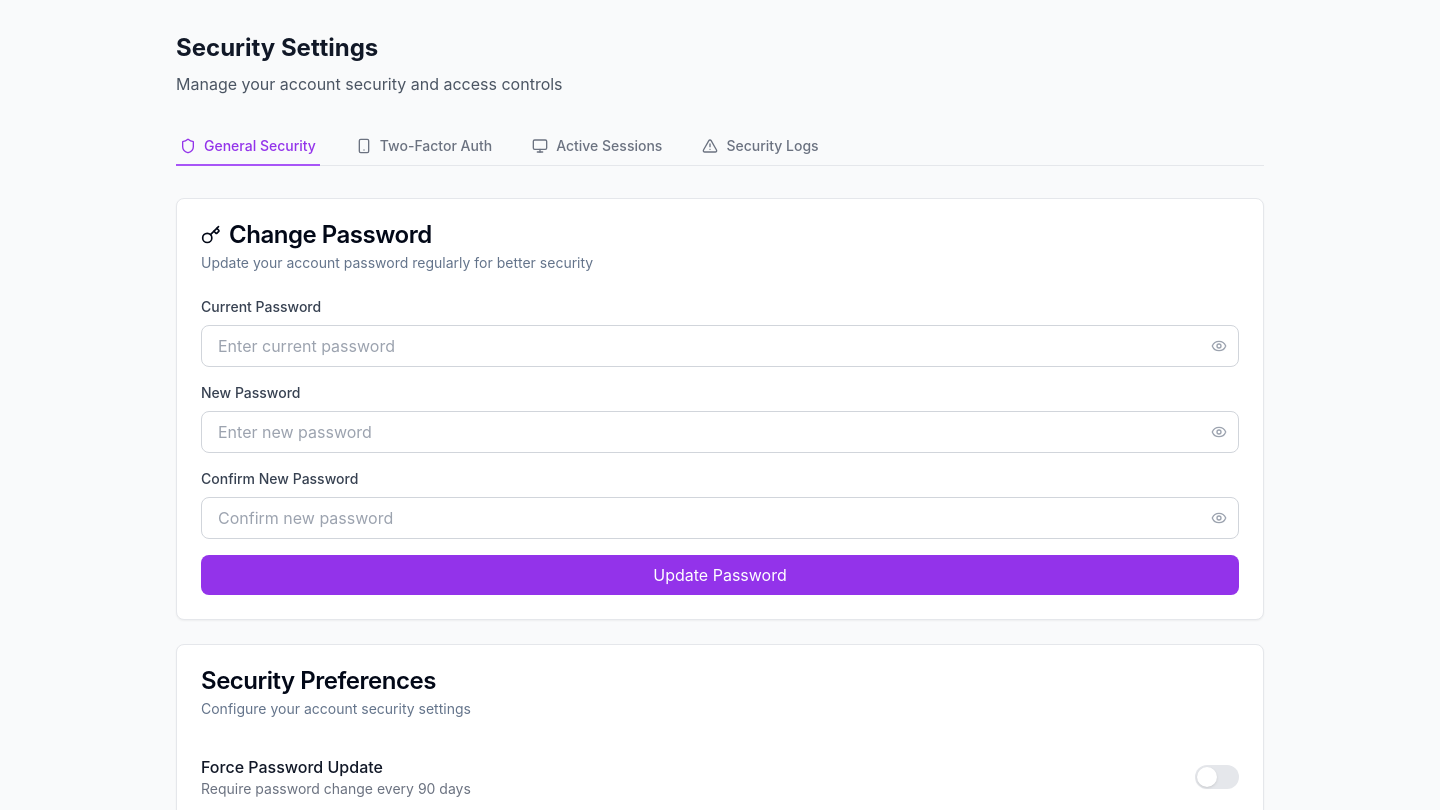
Test: ProductionSettingsSecurity › switches to Active Sessions tab
Click the button "Active Sessions": (597, 147) [528, 128, 666, 166]
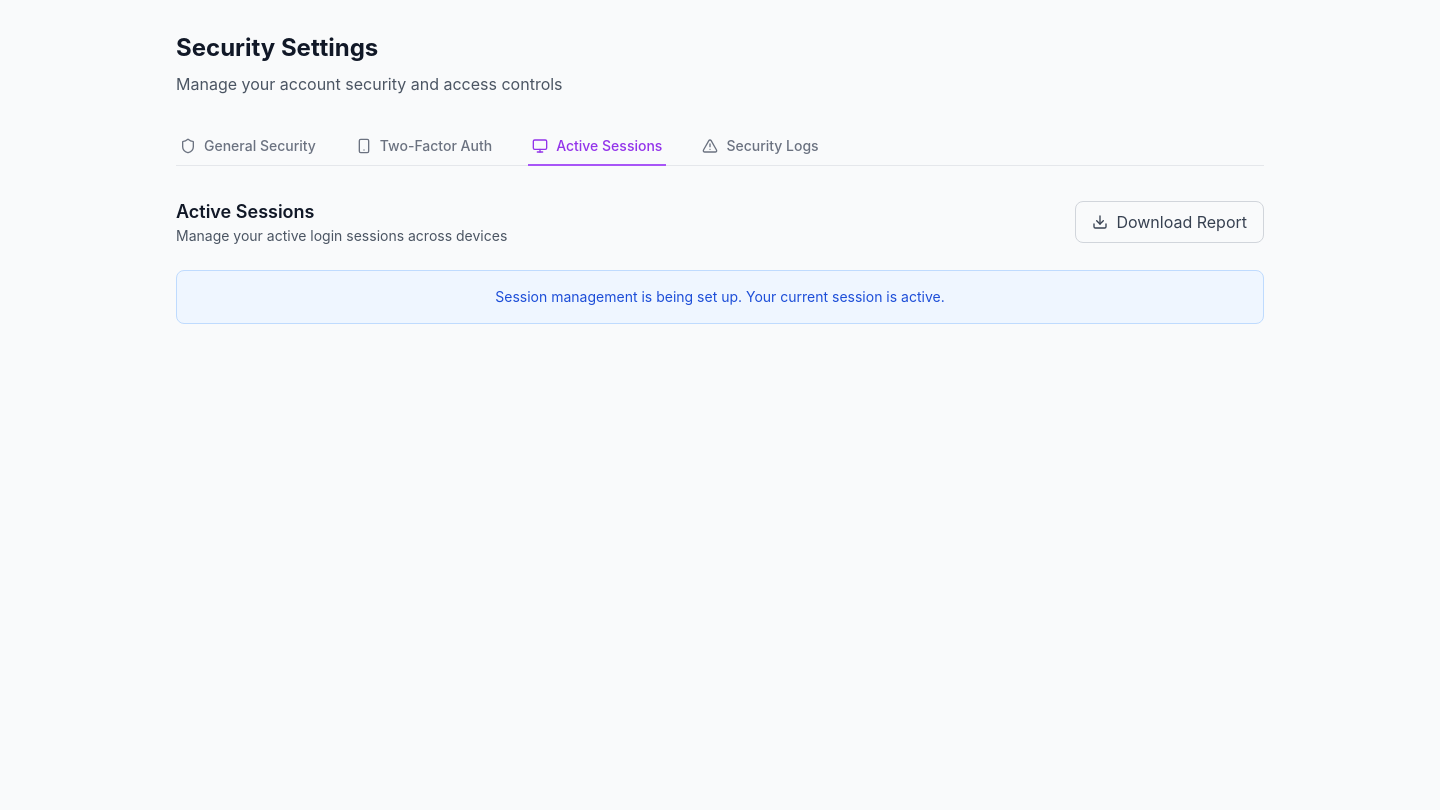
Now the button "Download Report" is shown, box [1075, 201, 1264, 243]
